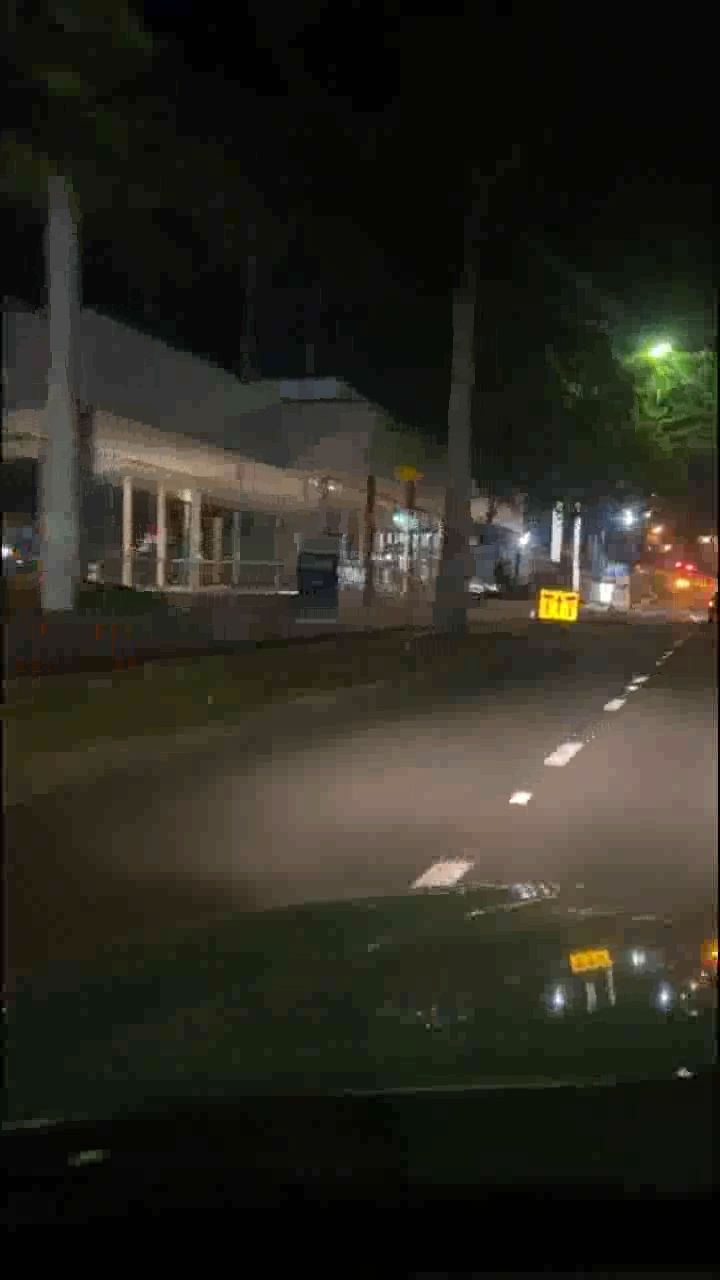road works sign board: (539, 588, 579, 623)
